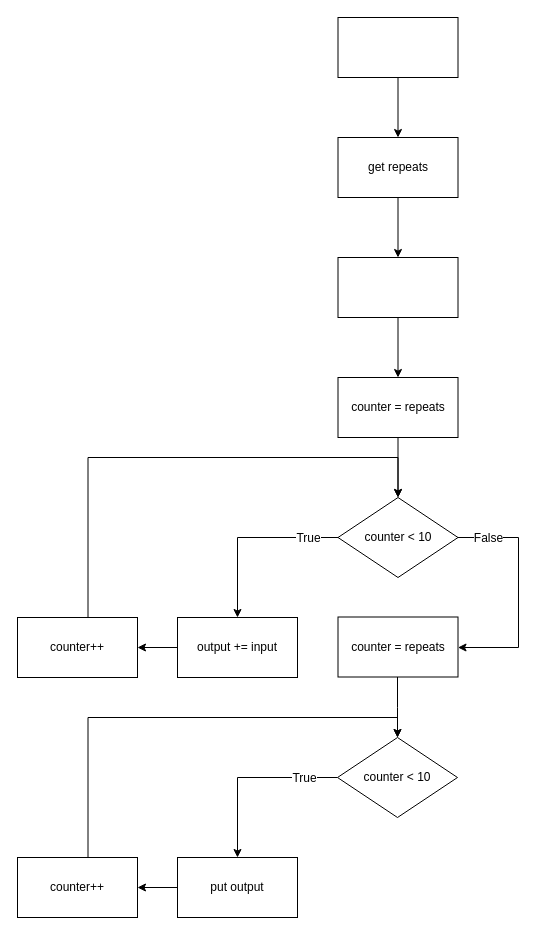
This 544x935 diagram has some shape labels left out. Each missing label, with the centre of its shape:
get input: (x=397, y=47)
output = "": (x=397, y=287)
